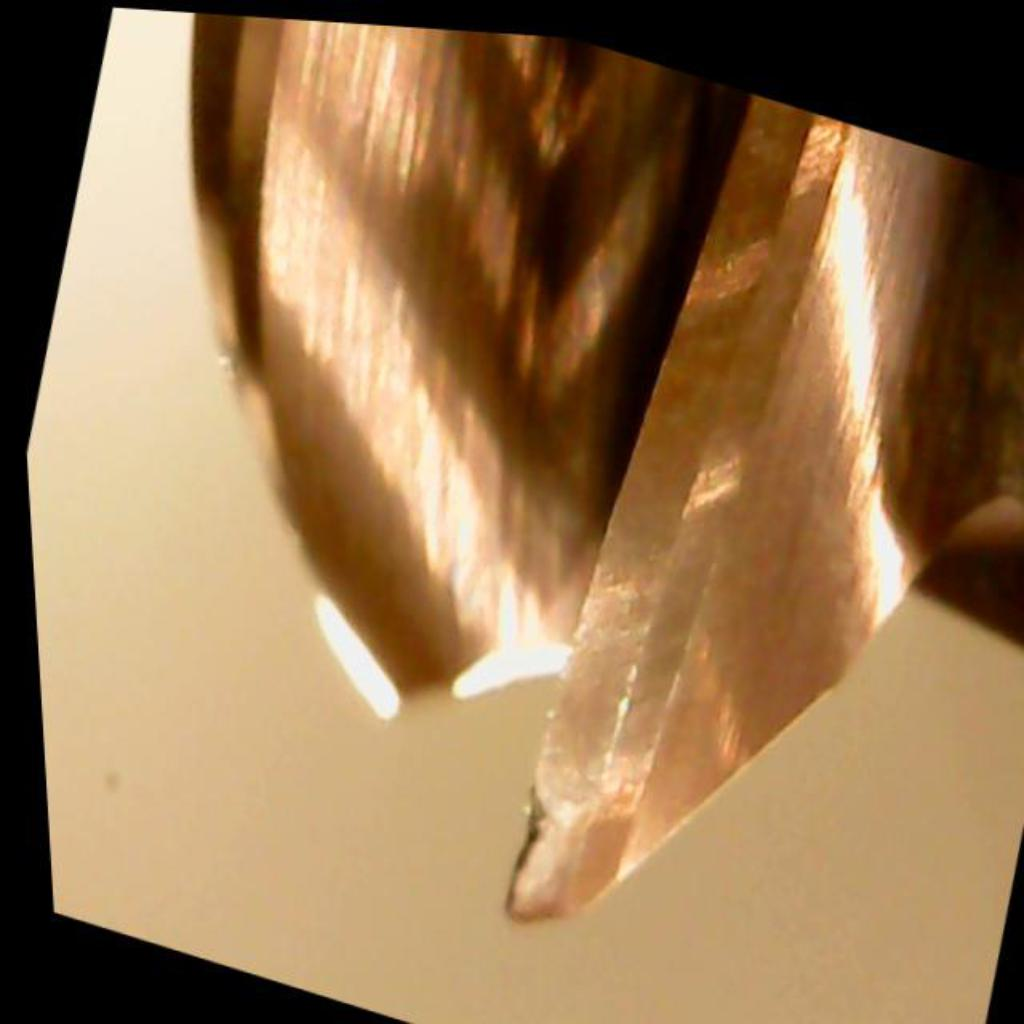Tool-wear-class-1: (457, 601, 693, 968)
